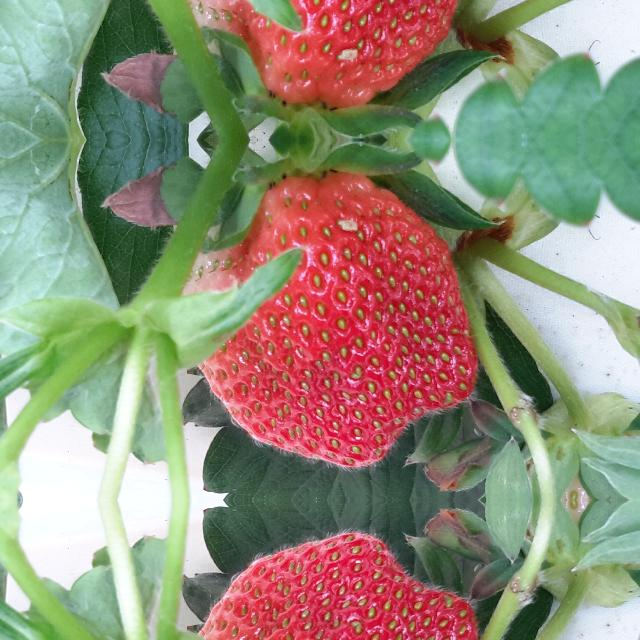Health_100: (181, 175, 477, 468), (181, 532, 477, 640), (181, 0, 477, 105)
